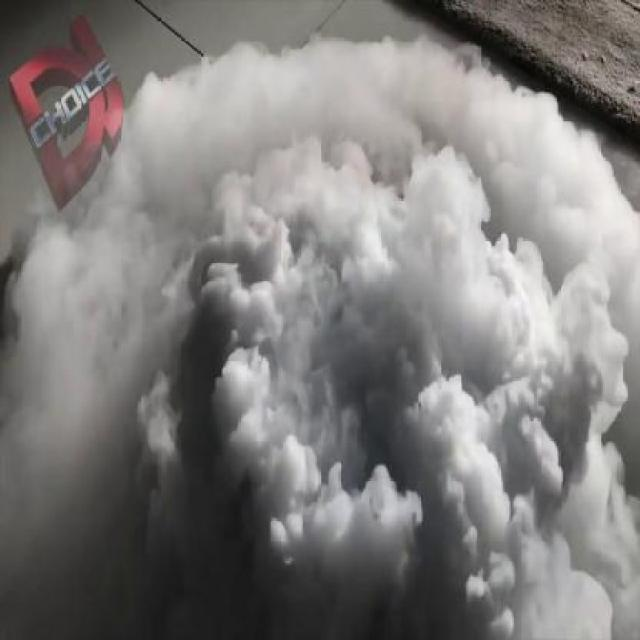smoke: (140, 66, 629, 640)
